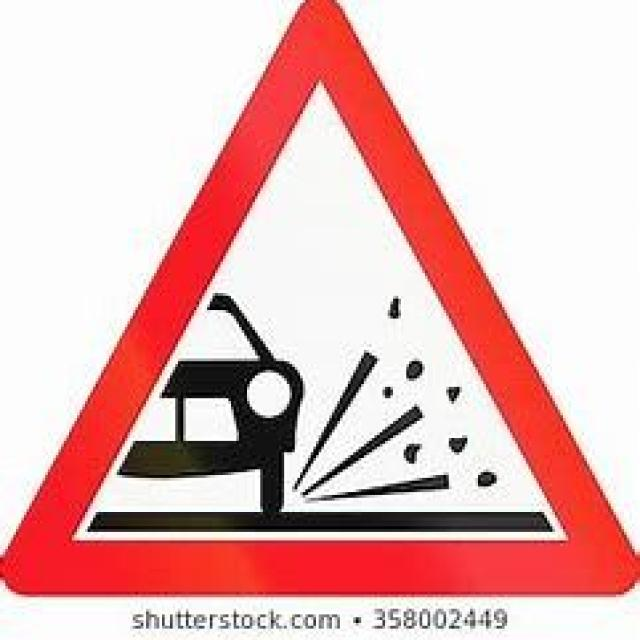LOOSE_GRAVEL: (0, 0, 640, 600)
